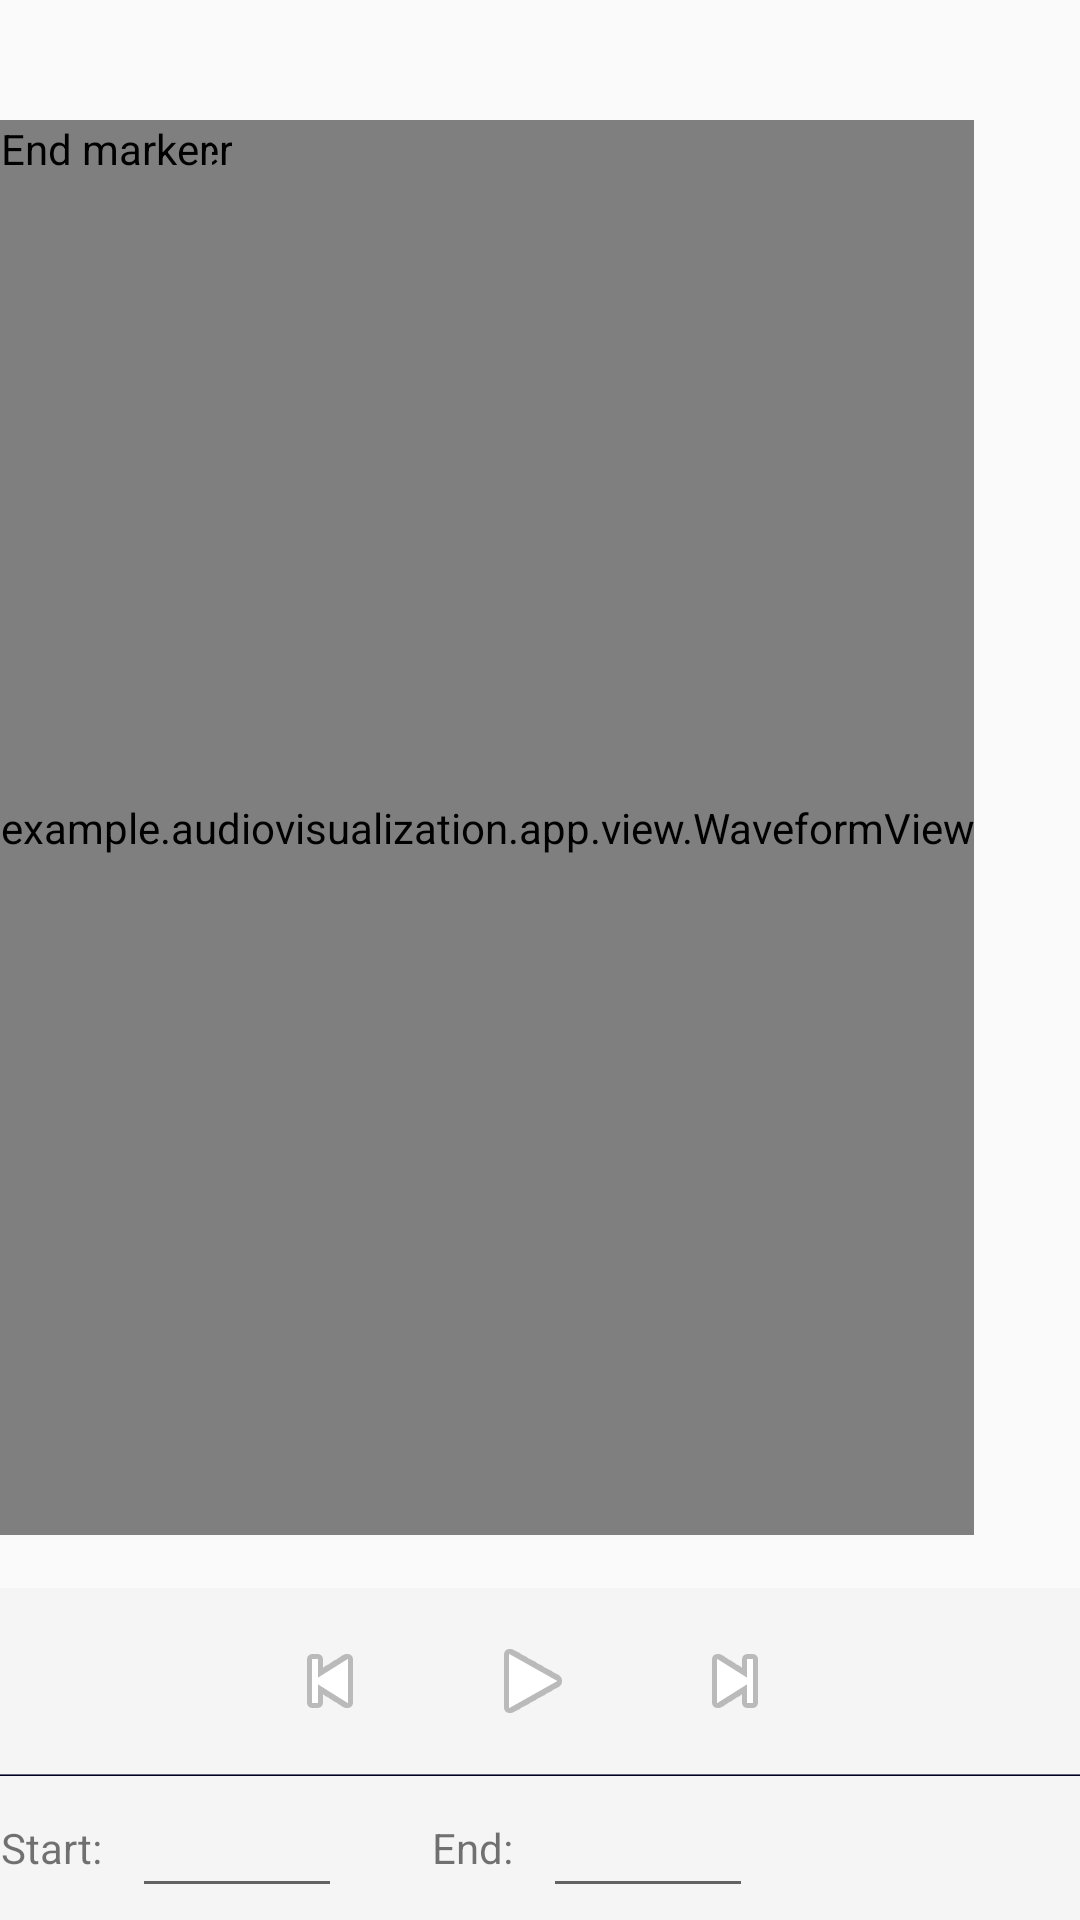

Icon bounding boxes for this 1080px×1920px phone screenshot, format (x1, y1, x2, y2):
Fast forward: (712, 1654, 758, 1708)
Play: (504, 1649, 562, 1713)
Rewind: (307, 1654, 353, 1708)
